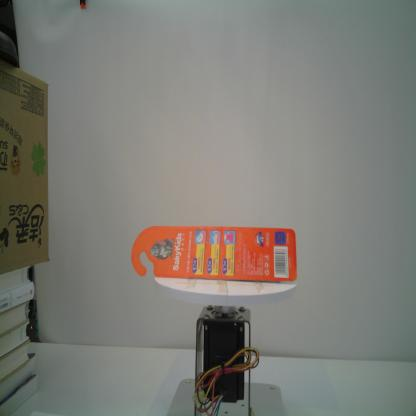Personal Hygiene: (131, 224, 298, 284)
